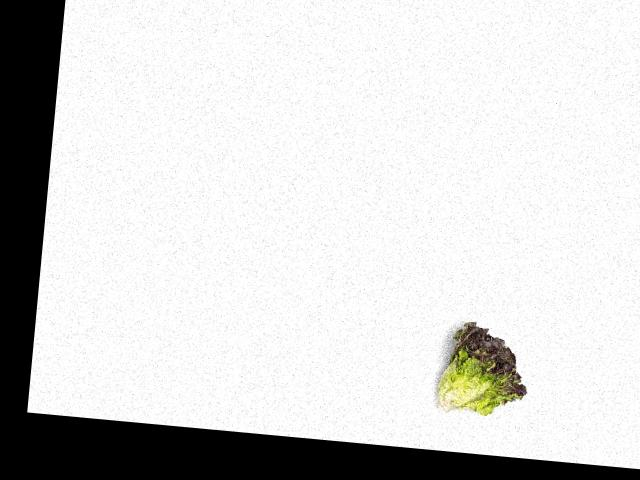lettuce: (435, 313, 531, 422)
